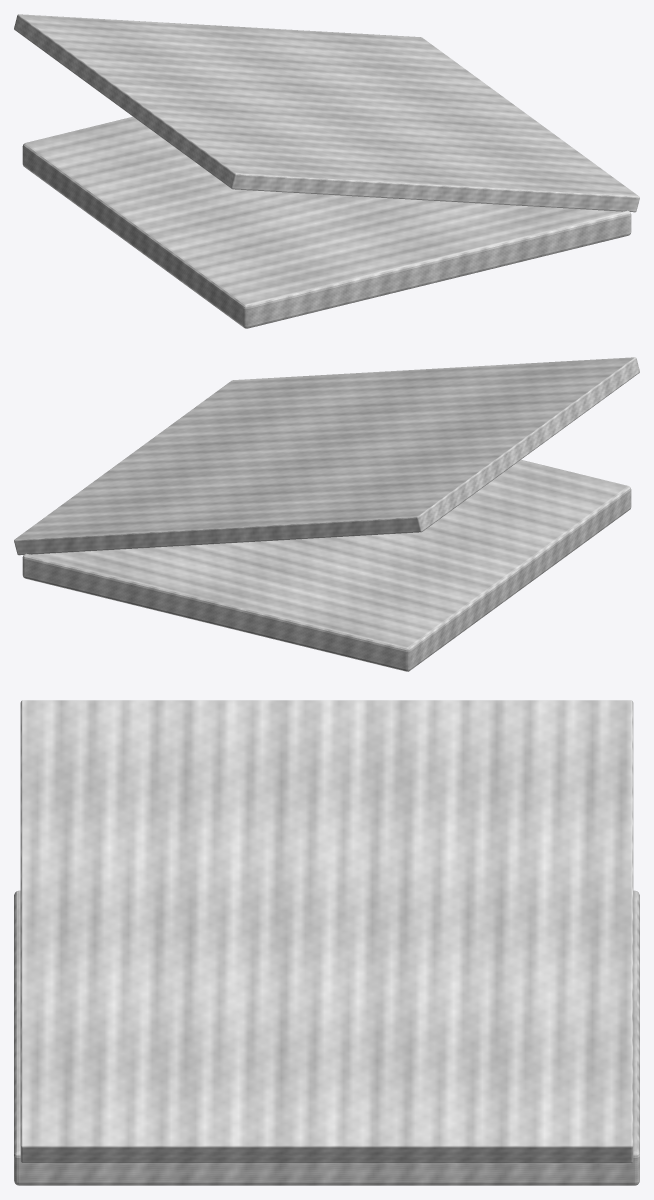
Rendered from ramps_variant_d.glb.
3 renders of one model, top to bottom at view 1: azimuth 30°, elevation 25°; view 2: azimuth 150°, elevation 25°; view 3: azimuth 270°, elevation 25°, orthographic. The views are drawn at different scales.
Visible parts, largest first — view 1: Ramp deck.003, Foundation.003; view 2: Ramp deck.003, Foundation.003; view 3: Ramp deck.003, Foundation.003.
Part boxes in pixels (left/top/right/bottom): Ramp deck.003: left=14, top=14, right=639, bottom=212; Foundation.003: left=22, top=116, right=631, bottom=328; Ramp deck.003: left=14, top=357, right=639, bottom=555; Foundation.003: left=22, top=459, right=631, bottom=671; Ramp deck.003: left=20, top=700, right=633, bottom=1163; Foundation.003: left=14, top=890, right=639, bottom=1185.
Size of what is drawn, in the model's own units: 7.75 by 2.83 by 7.36.
Materials: 2 (2 with a texture image).
